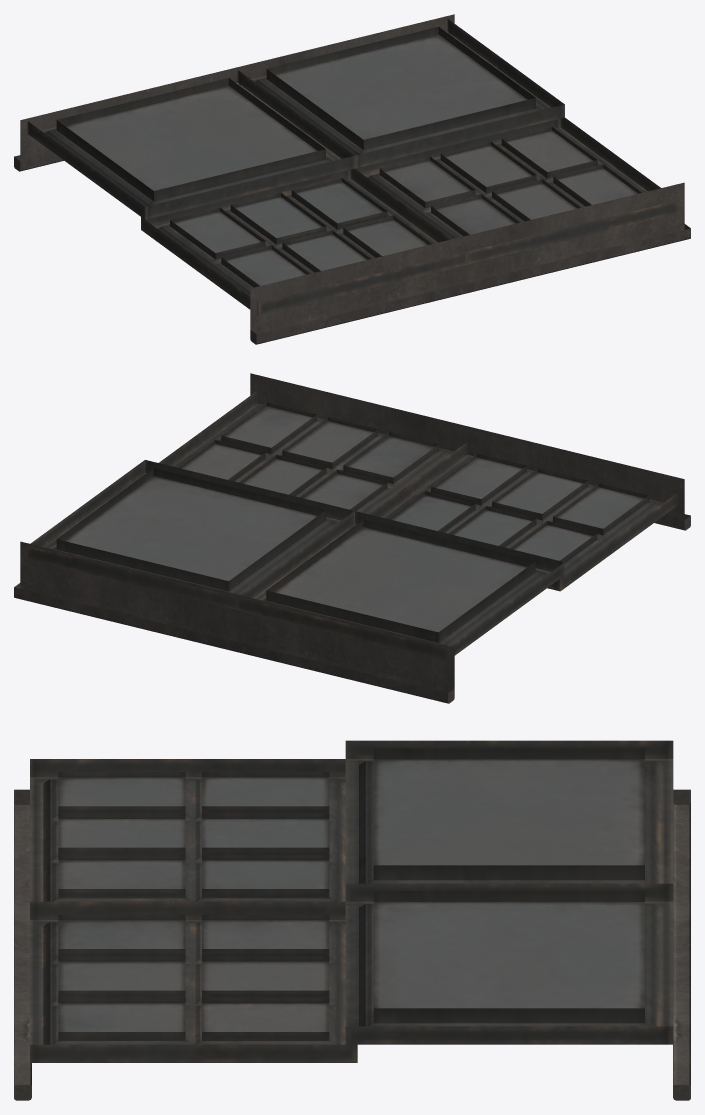
The model's file is window_centered_large_03.gltf.
The picture shows the model from 3 angles, top to bottom: view 1: azimuth 30°, elevation 25°; view 2: azimuth 150°, elevation 25°; view 3: azimuth 270°, elevation 25°; orthographic projection. The views are drawn at different scales.
Visible parts, largest first — view 1: window_centered_large_03; view 2: window_centered_large_03; view 3: window_centered_large_03.
Boxes of the visible parts, x1,y1,x2,y2 form: window_centered_large_03: (14, 14, 690, 344); window_centered_large_03: (14, 373, 690, 703); window_centered_large_03: (14, 740, 690, 1100).
Bounding box in the file's own units: 1.74 × 0.2049 × 1.68.
3 materials, 3 textured.
